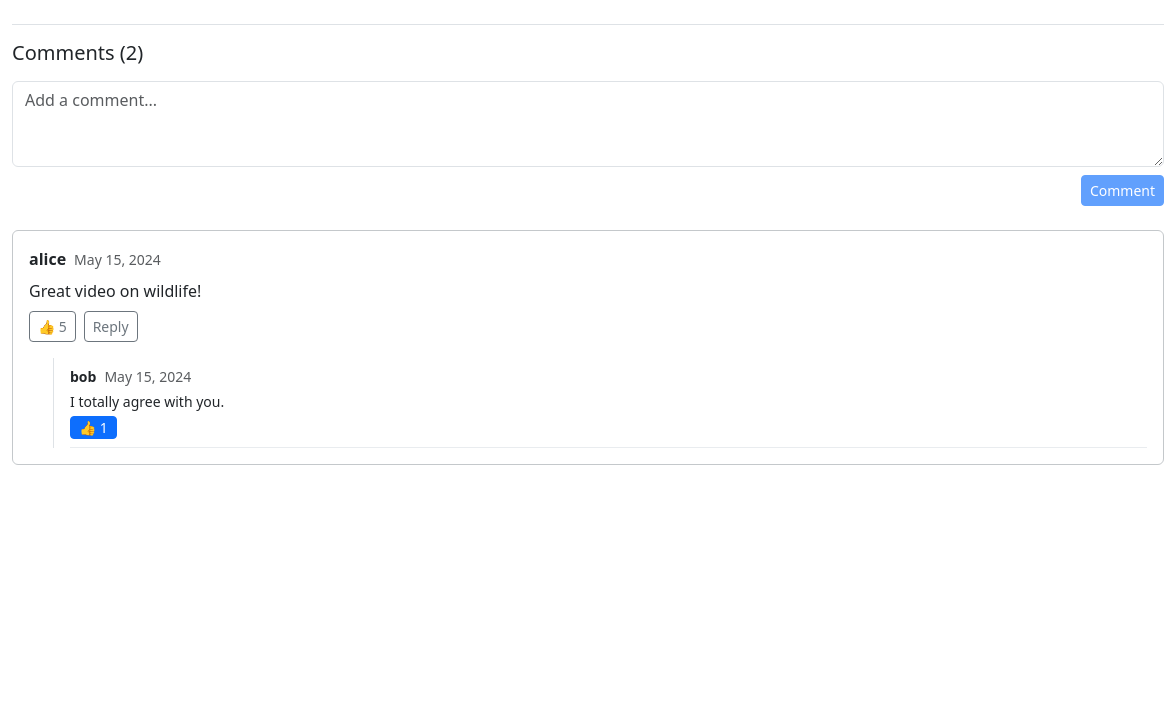
Test: CommentSection › authenticated user can reply to a comment
Step 1. Click the button with aria-label "Reply to comment by alice" → (111, 326), box [84,311,138,342]
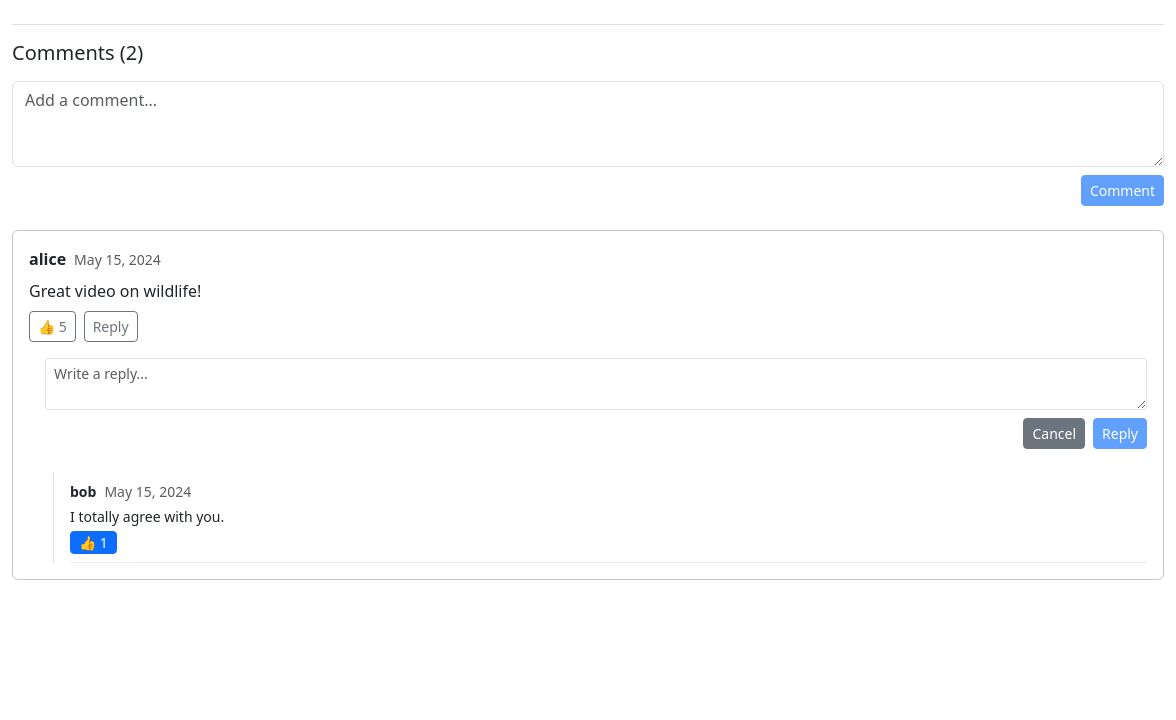
Step 2. Type "Here is my reply to Alice" into the text box with placeholder "Write a reply..." → (596, 384), box [45,358,1147,410]
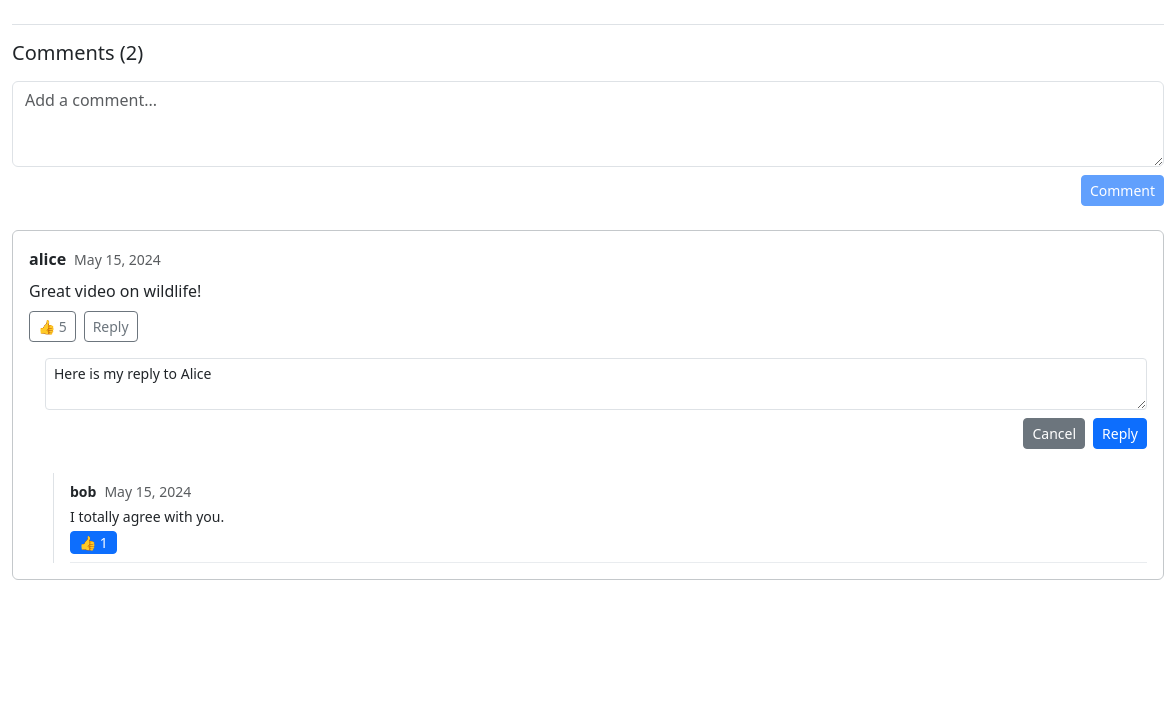
Step 3. Click the 2nd button "Reply" → (1120, 434), box [1093,418,1147,449]
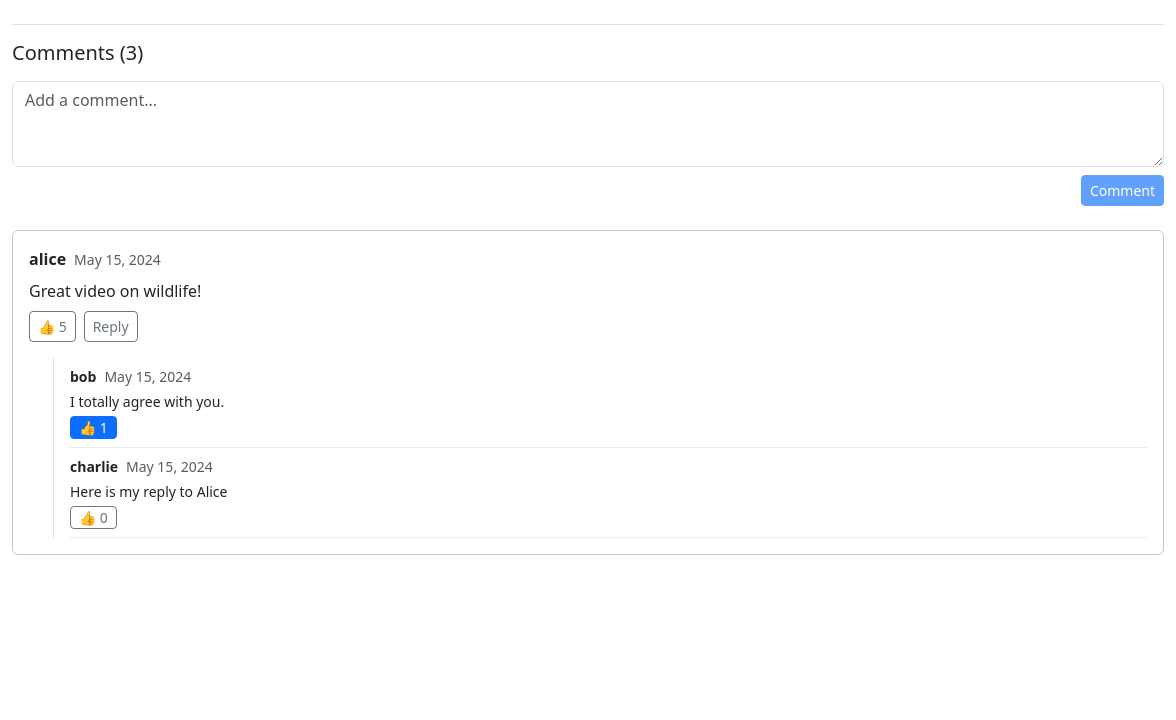
Now the text "Here is my reply to Alice" is shown, box [70,482,228,501]
